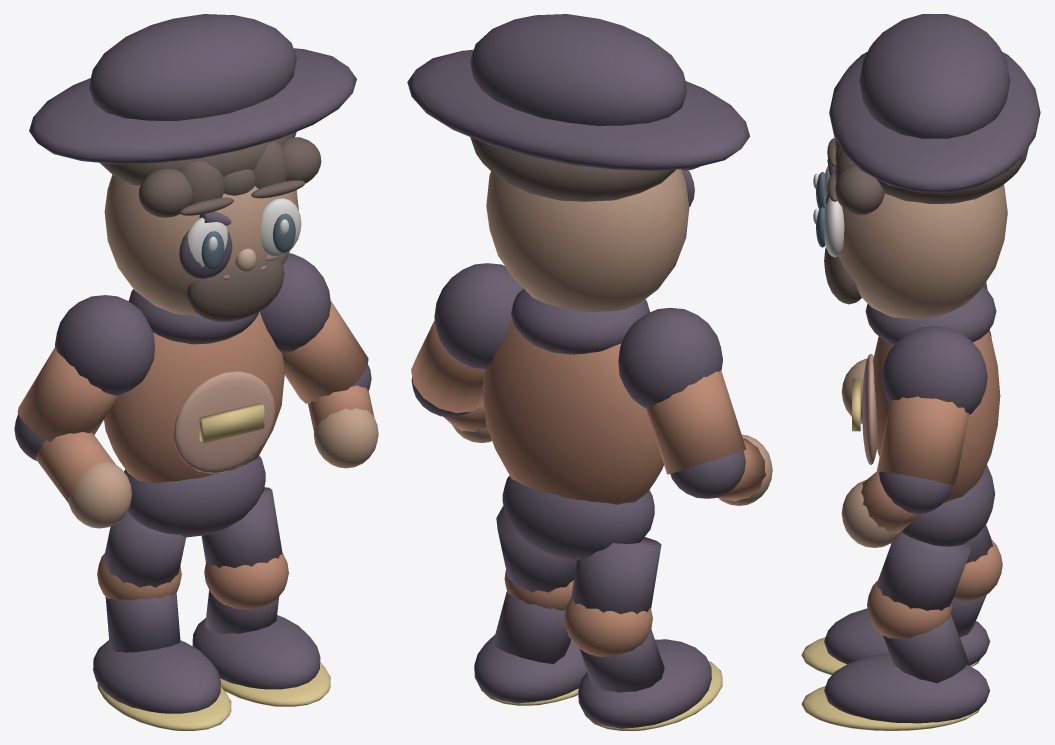
The model's file is 06_pirate.glb.
3 views of the same model, side by side, from view 1: azimuth 30°, elevation 25°; view 2: azimuth 150°, elevation 25°; view 3: azimuth 270°, elevation 25° (orthographic). The views are drawn at different scales.
Visible parts, largest first — view 1: 06_pirate_tricorn-crown_051, 06_pirate_tricorn-brim_050, 06_pirate_outfit-torso_001, 06_pirate_face_025, 06_pirate_pauldron_009, 06_pirate_oversized-boot_018, 06_pirate_shorts_002, 06_pirate_oversized-boot_023, 06_pirate_chest-piece_004, 06_pirate_upper-arm_005, 06_pirate_upper-arm_010, 06_pirate_pauldron_014 (+29 smaller); view 2: 06_pirate_outfit-torso_001, 06_pirate_face_025, 06_pirate_tricorn-crown_051, 06_pirate_tricorn-brim_050, 06_pirate_shorts_002, 06_pirate_pauldron_009, 06_pirate_pauldron_014, 06_pirate_upper-arm_005, 06_pirate_oversized-boot_018, 06_pirate_hair-cap_044, 06_pirate_upper-leg_015, 06_pirate_collar_003 (+12 smaller); view 3: 06_pirate_face_025, 06_pirate_tricorn-crown_051, 06_pirate_tricorn-brim_050, 06_pirate_oversized-boot_023, 06_pirate_pauldron_014, 06_pirate_upper-arm_010, 06_pirate_upper-leg_020, 06_pirate_outfit-torso_001, 06_pirate_shorts_002, 06_pirate_lower-leg_022, 06_pirate_oversized-boot_018, 06_pirate_collar_003 (+16 smaller).
Part boxes in pixels (x1,y1,x2,y2): 06_pirate_tricorn-crown_051: (89,14,296,120); 06_pirate_tricorn-brim_050: (29,48,356,164); 06_pirate_outfit-torso_001: (104,312,284,483); 06_pirate_face_025: (104,175,298,315); 06_pirate_pauldron_009: (55,295,154,395); 06_pirate_oversized-boot_018: (93,640,220,713); 06_pirate_shorts_002: (124,455,265,537); 06_pirate_oversized-boot_023: (192,615,320,689); 06_pirate_chest-piece_004: (174,371,275,473); 06_pirate_upper-arm_005: (17,347,117,442); 06_pirate_upper-arm_010: (282,300,368,403); 06_pirate_pauldron_014: (259,253,330,353); 06_pirate_outfit-torso_001: (482,319,663,504); 06_pirate_face_025: (486,169,689,311); 06_pirate_tricorn-crown_051: (470,14,686,125); 06_pirate_tricorn-brim_050: (407,49,749,171); 06_pirate_shorts_002: (502,475,654,560); 06_pirate_pauldron_009: (618,308,722,408); 06_pirate_pauldron_014: (434,263,523,369); 06_pirate_upper-arm_005: (646,370,746,474); 06_pirate_oversized-boot_018: (578,639,711,728); 06_pirate_hair-cap_044: (470,137,675,201); 06_pirate_upper-leg_015: (571,537,661,614); 06_pirate_collar_003: (511,288,649,354); 06_pirate_face_025: (828,169,1007,319); 06_pirate_tricorn-crown_051: (859,14,1010,138); 06_pirate_tricorn-brim_050: (829,52,1040,192); 06_pirate_oversized-boot_023: (824,653,989,723); 06_pirate_pauldron_014: (882,326,987,414); 06_pirate_upper-arm_010: (876,396,969,486); 06_pirate_upper-leg_020: (876,532,971,610); 06_pirate_outfit-torso_001: (873,331,1000,502); 06_pirate_shorts_002: (902,465,995,546); 06_pirate_lower-leg_022: (883,615,968,683); 06_pirate_oversized-boot_018: (824,608,990,665); 06_pirate_collar_003: (865,286,996,345).
Bounding box in the file's own units: 1.52 × 2.91 × 0.95.
